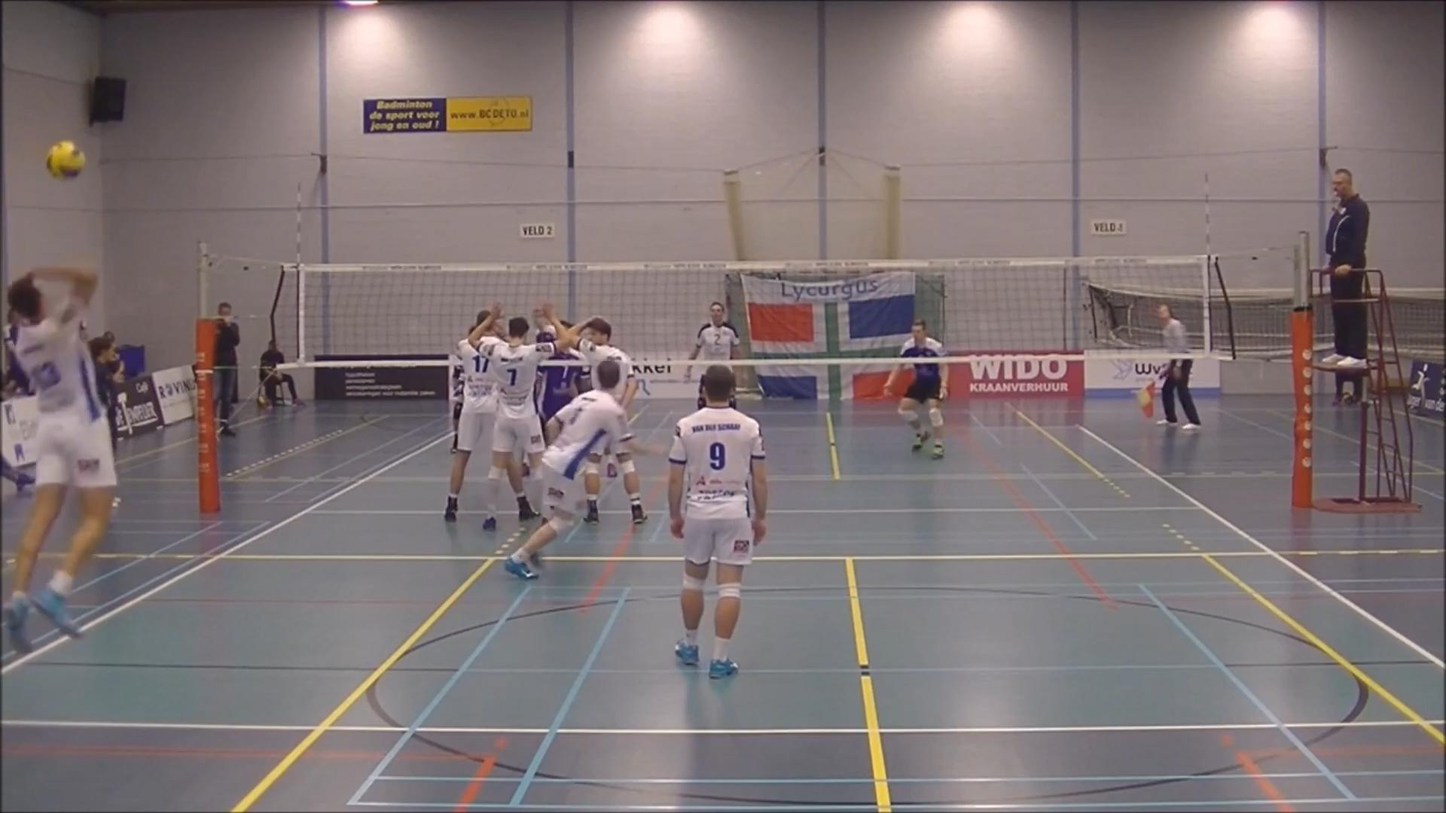battuta: (0, 259, 117, 645)
